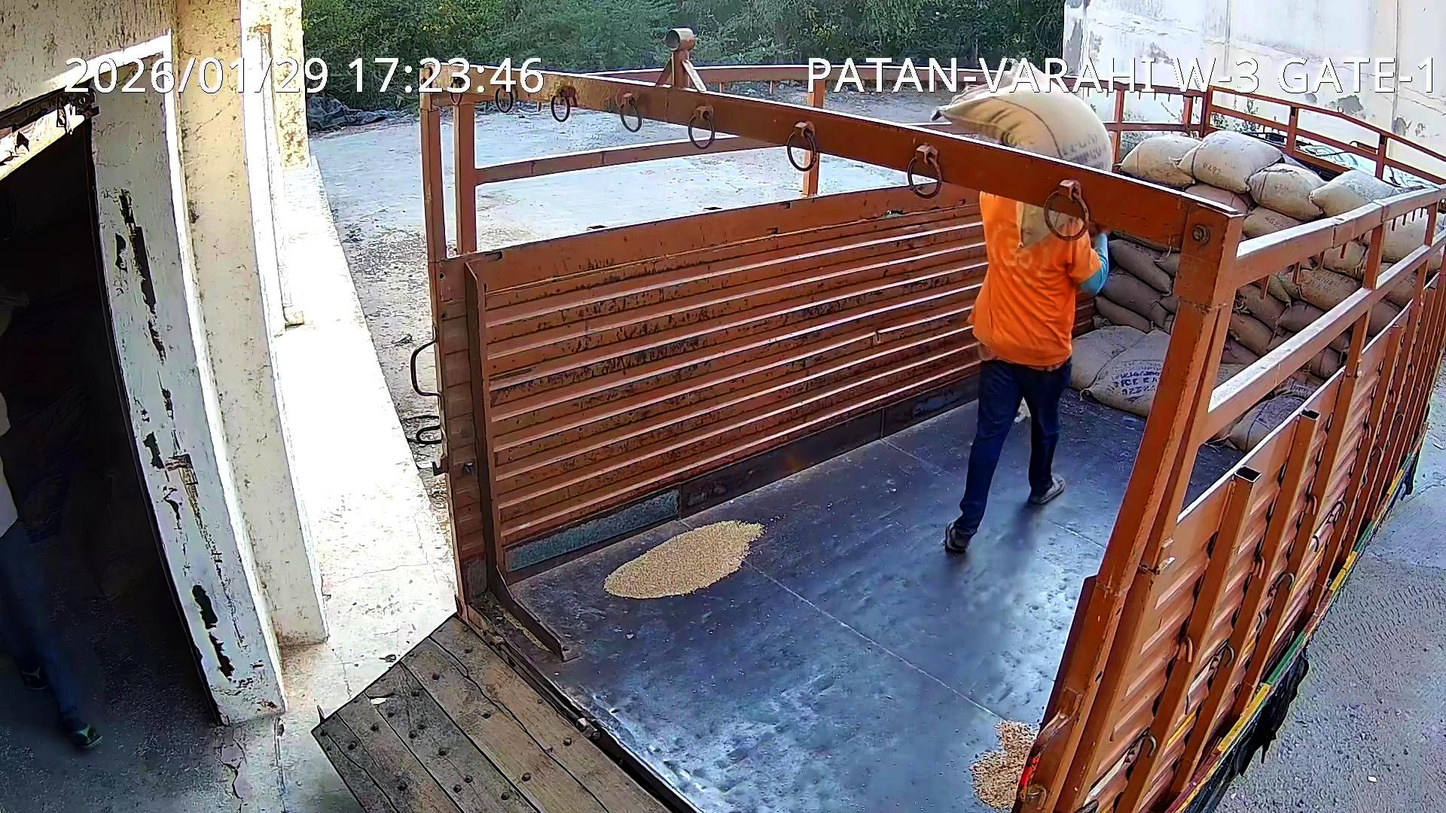Sack: (935, 62, 1112, 171), (1015, 202, 1076, 248)
